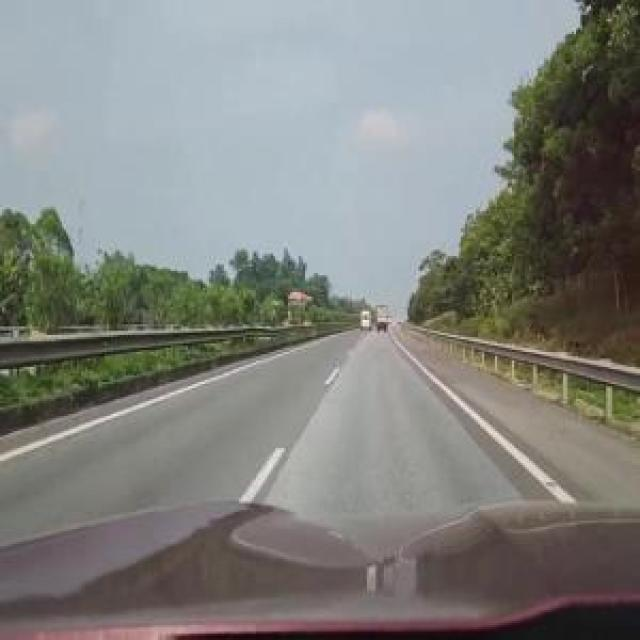clear-road: (0, 333, 544, 560)
